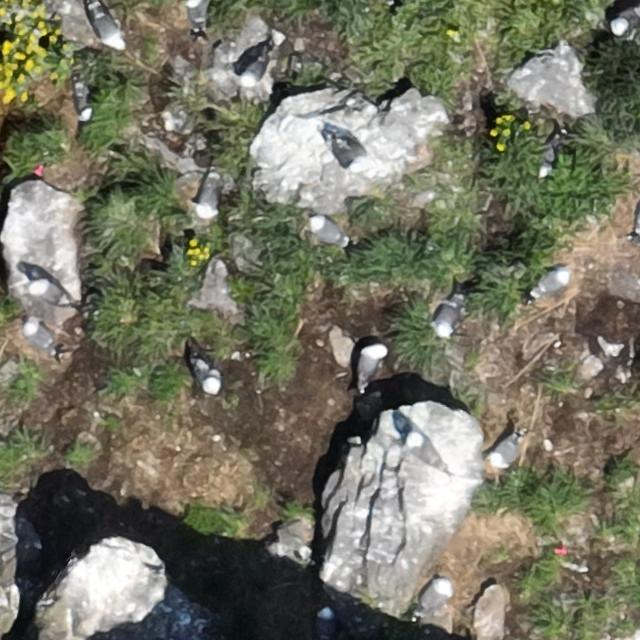umineko: (327, 128, 378, 174), (91, 9, 122, 47), (358, 343, 384, 385), (420, 578, 450, 611), (30, 280, 67, 306), (312, 218, 347, 245), (412, 435, 442, 466), (27, 323, 58, 352), (536, 268, 569, 294), (435, 302, 460, 334), (196, 361, 220, 393), (197, 180, 218, 216), (612, 5, 638, 33), (491, 436, 516, 464), (240, 57, 264, 85), (76, 84, 92, 120), (315, 608, 333, 639), (188, 1, 206, 28)
